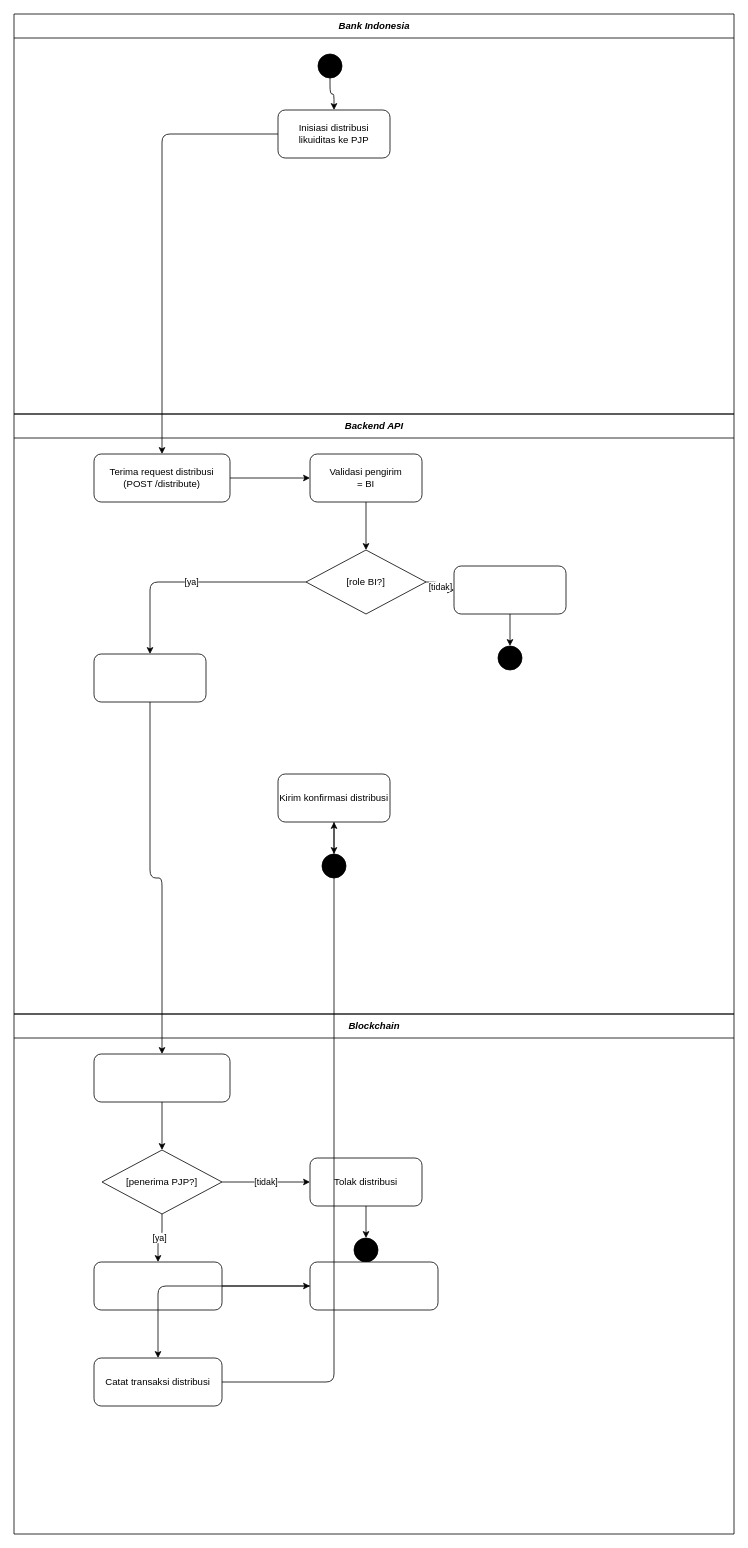
This 748x1548 diagram has some shape labels left out. Each missing label, with the box of its shape:
Burn(sender) → kurangi saldo bi_treasury: (93, 1261, 222, 1310)
Kirim error: (453, 565, 566, 614)
Mint(receiver) → tambah saldo PJP: (309, 1261, 438, 1310)
Teruskan ke blockchain: (93, 653, 206, 702)
Validasi penerima = PJP: (93, 1053, 230, 1102)
